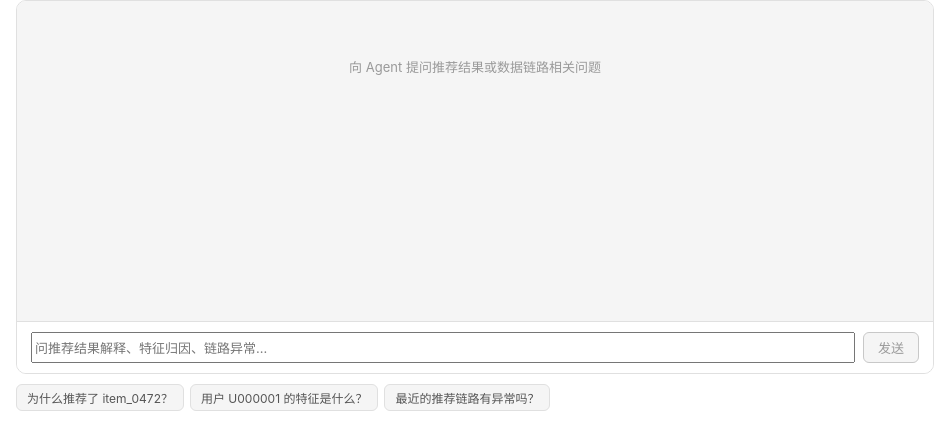
AgentChat › sends a message and displays user bubble
Type "测试消息" into the field with placeholder "问推荐结果解释、特征归因、链路异常…". click: (443, 348)
box: [31, 332, 855, 363]
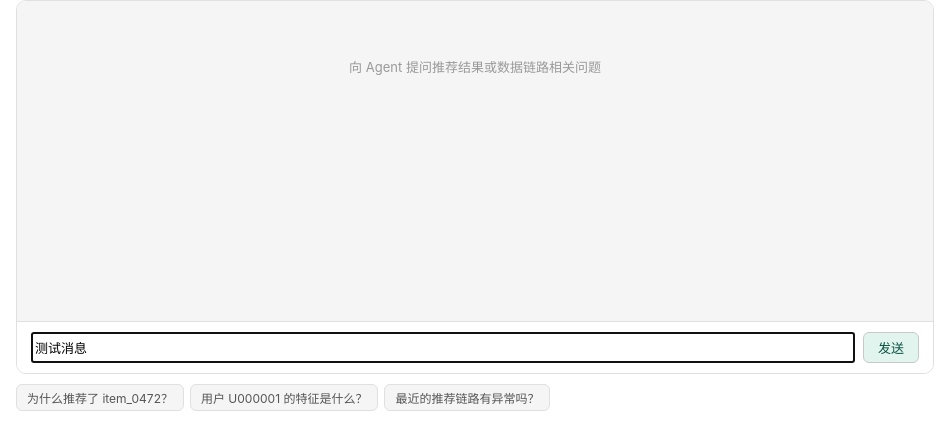
Click the button "发送". click: (891, 348)
box: [863, 332, 919, 363]
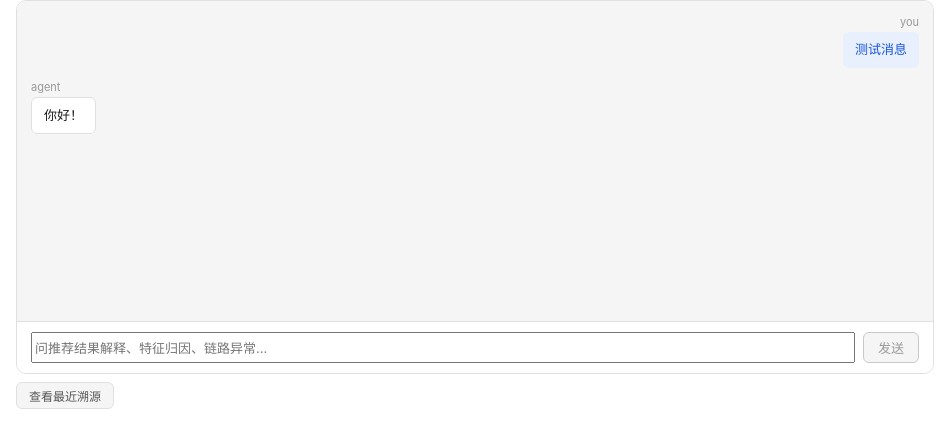
Expected: the text "测试消息" is shown, [843, 32, 919, 68]
Expected: the text "you" is shown, [900, 15, 919, 29]
